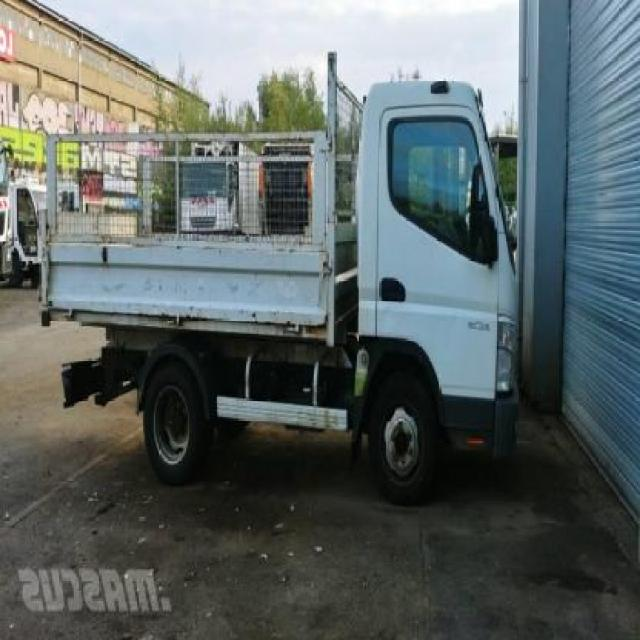truck: (40, 53, 526, 506)
